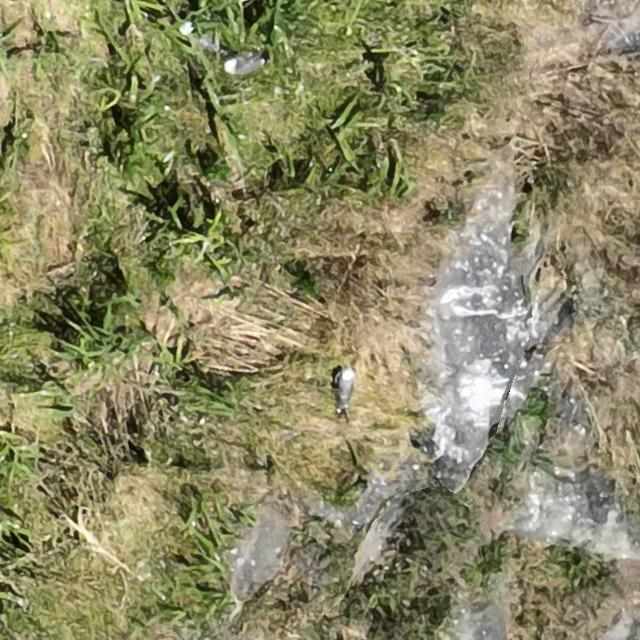umineko: (224, 54, 261, 74), (180, 16, 221, 34), (338, 369, 354, 404)
